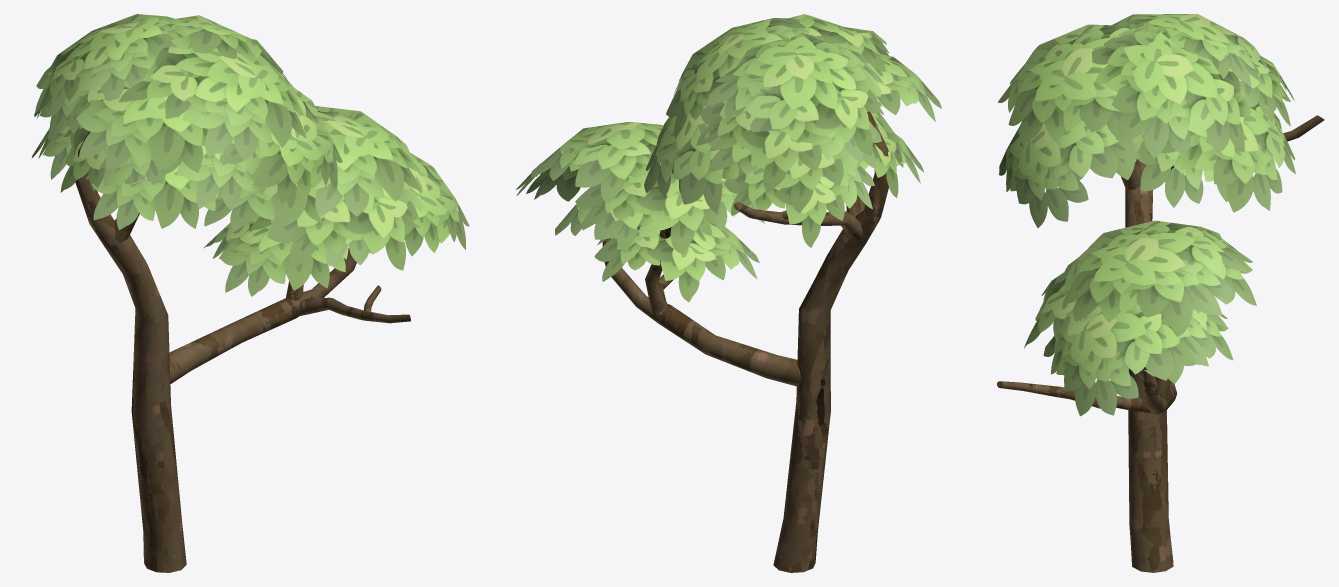
The model's file is tree_6.glb.
3 views of the same model, side by side, from view 1: azimuth 30°, elevation 25°; view 2: azimuth 150°, elevation 25°; view 3: azimuth 270°, elevation 25° (orthographic).
Parts seen in each view (by area): view 1: Tree_6; view 2: Tree_6; view 3: Tree_6.
Part boxes in pixels (x1,y1,x2,y2): Tree_6: (31,14,469,572); Tree_6: (516,14,941,572); Tree_6: (997,14,1324,572).
Size of the model in its own units: 6.84 by 8.38 by 4.8.
2 materials, 2 textured.
